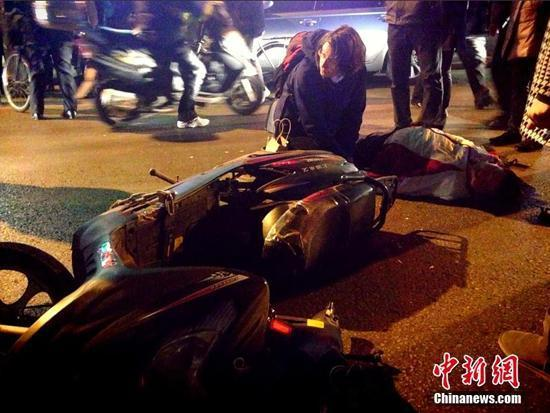Fall-Detected: (344, 111, 536, 212)
